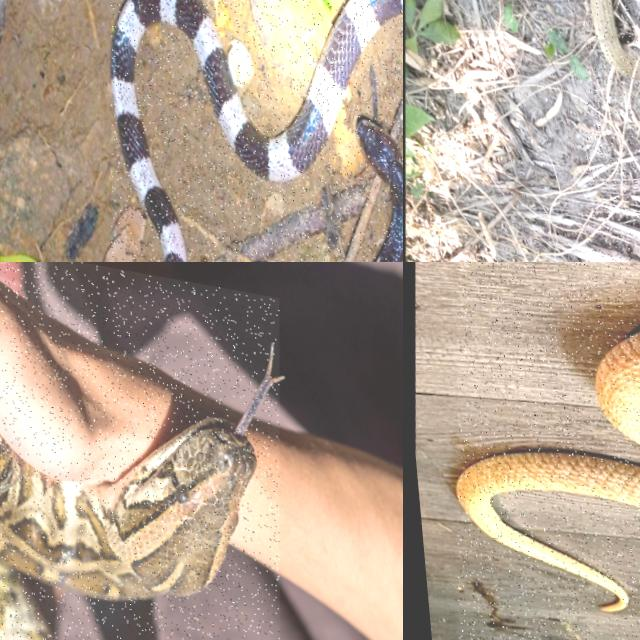Bungarus candidus: (111, 0, 402, 261)
Naja kaouthia: (457, 451, 639, 610)
Naja siamensis: (590, 0, 639, 80)
Python bivittatus: (0, 369, 274, 639)
